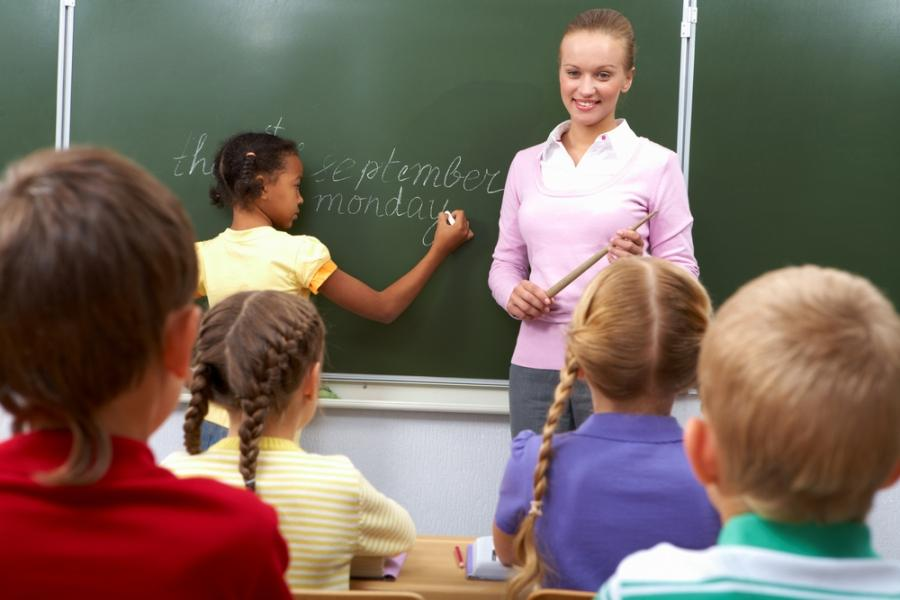person: (192, 135, 476, 452)
